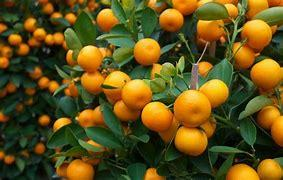orange: (122, 36, 163, 75), (80, 70, 120, 103), (232, 155, 283, 180), (172, 93, 212, 123), (135, 102, 179, 129), (62, 156, 108, 180), (251, 59, 283, 93), (127, 80, 163, 108), (192, 12, 228, 40), (206, 77, 239, 107), (175, 127, 209, 151), (256, 103, 283, 133), (240, 25, 272, 50), (230, 45, 254, 74), (94, 9, 132, 27), (82, 41, 103, 72), (164, 8, 188, 29)
